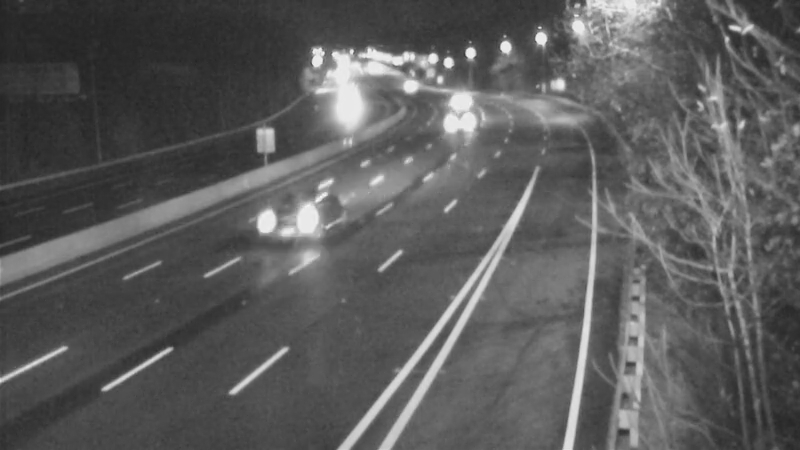vehicle: (257, 176, 337, 256), (380, 61, 430, 111), (433, 75, 483, 125), (436, 95, 486, 145), (321, 82, 371, 132)
